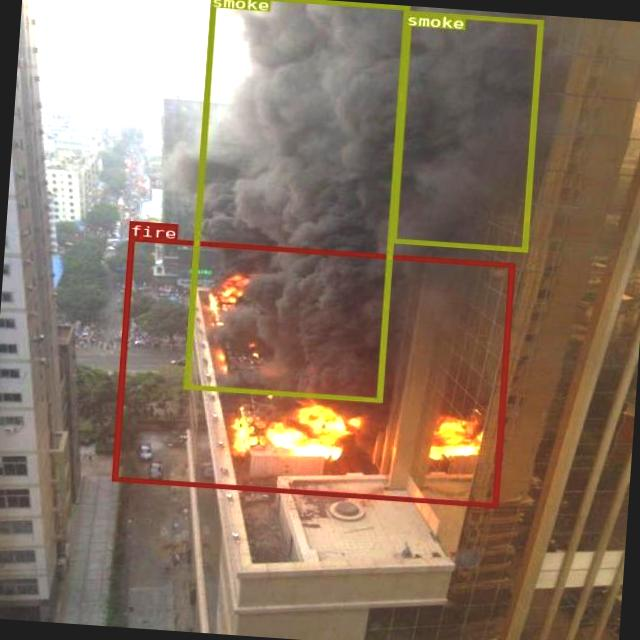fire: (111, 235, 513, 506)
smoke: (182, 0, 408, 401), (388, 9, 542, 251)
